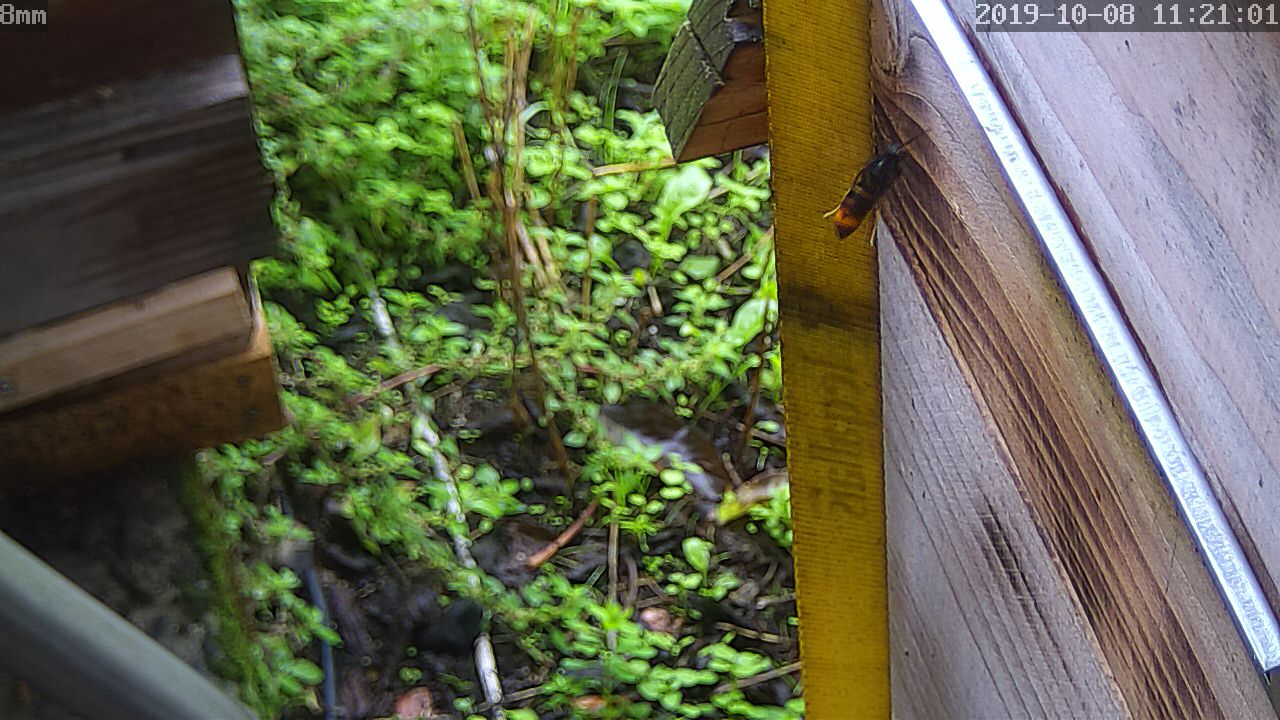hornet: (825, 143, 912, 247)
